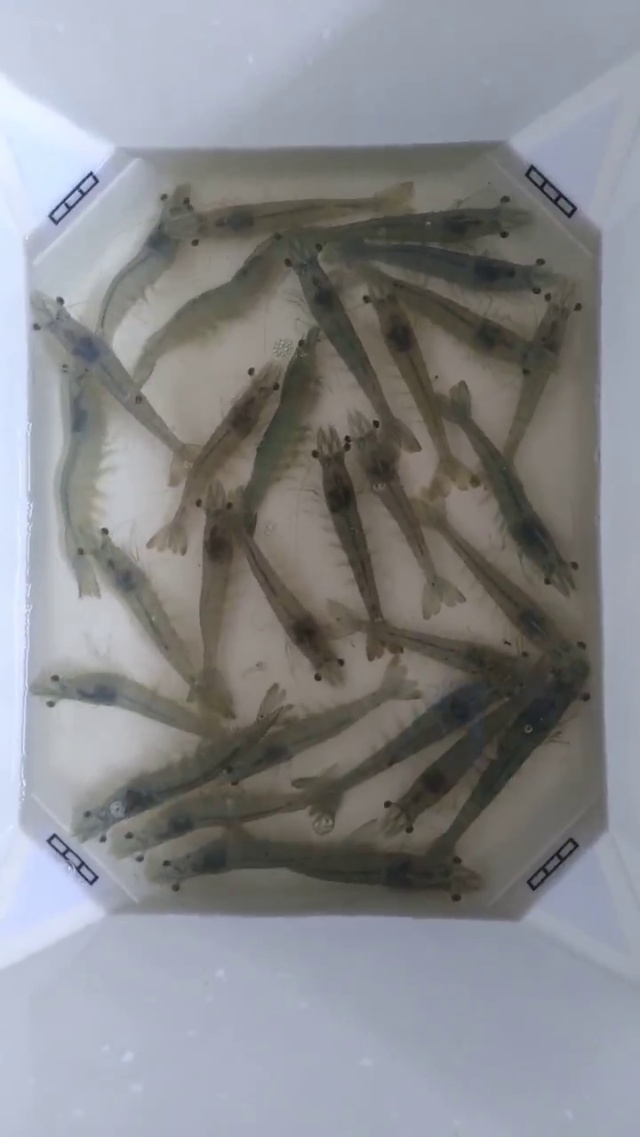shrimp: (520, 125, 639, 486), (557, 410, 639, 734), (566, 506, 639, 797), (56, 392, 149, 619), (78, 682, 202, 850), (64, 319, 193, 461), (101, 152, 200, 331), (147, 392, 255, 554), (442, 382, 539, 561), (78, 528, 190, 677), (183, 670, 286, 819), (23, 782, 140, 909), (454, 144, 553, 291), (148, 467, 243, 620), (192, 344, 295, 469), (139, 784, 240, 910), (317, 215, 424, 331), (188, 154, 277, 287), (365, 657, 465, 775), (264, 579, 359, 697), (389, 791, 487, 903), (342, 348, 420, 487), (200, 630, 286, 719), (0, 195, 31, 438), (310, 425, 362, 558), (0, 540, 28, 773), (30, 672, 140, 709)
